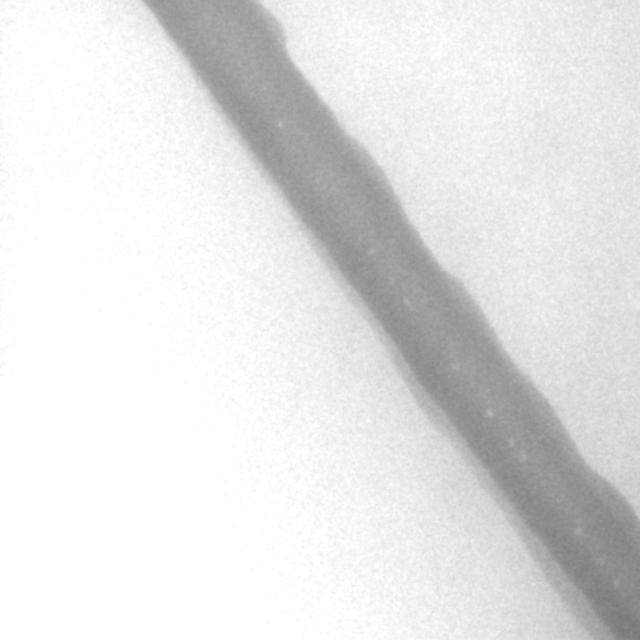air-hole: (404, 298, 414, 310), (573, 528, 583, 536), (596, 557, 604, 567), (509, 438, 516, 448), (520, 451, 527, 461), (614, 580, 620, 590), (487, 409, 493, 418), (278, 120, 284, 128), (368, 245, 374, 253), (454, 364, 459, 371), (358, 236, 364, 240)
